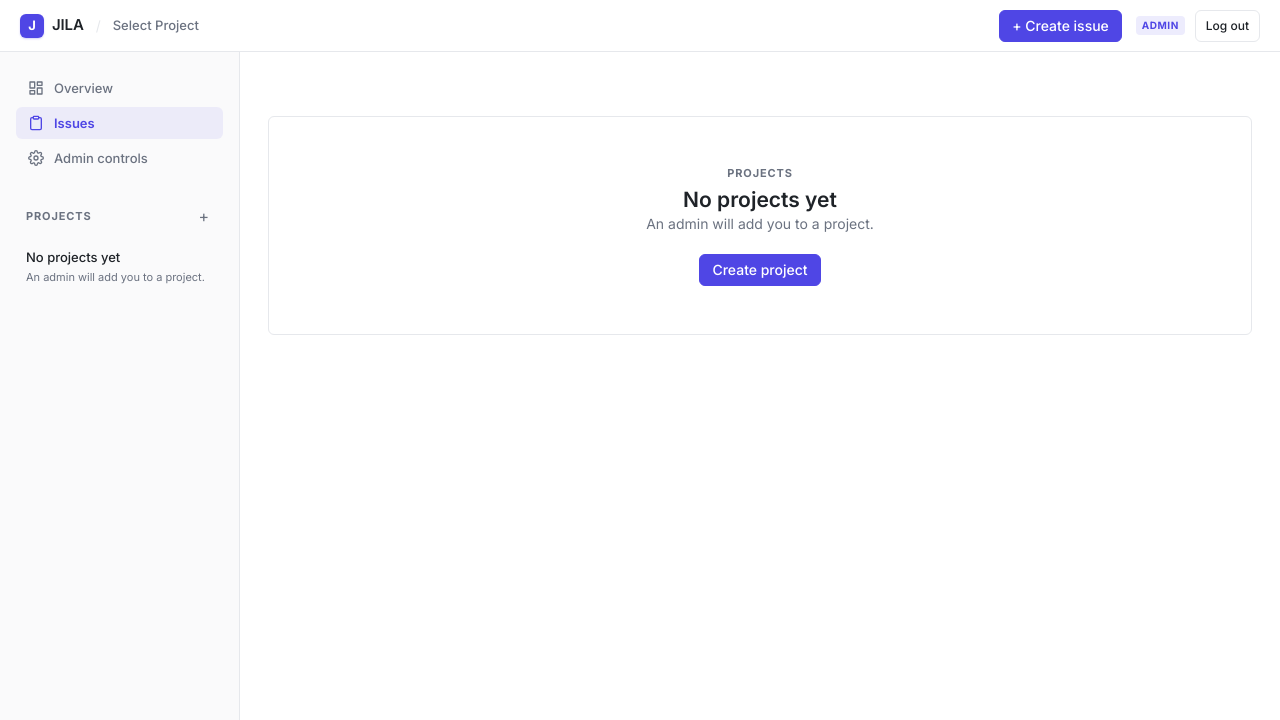
it: WorkspaceComponent › shows an admin project-creation action in the real empty-project state
The image size is (1280, 720).
Click the button with class "create-submit".
click(760, 270)  # box x1=699 y1=254 x2=821 y2=286
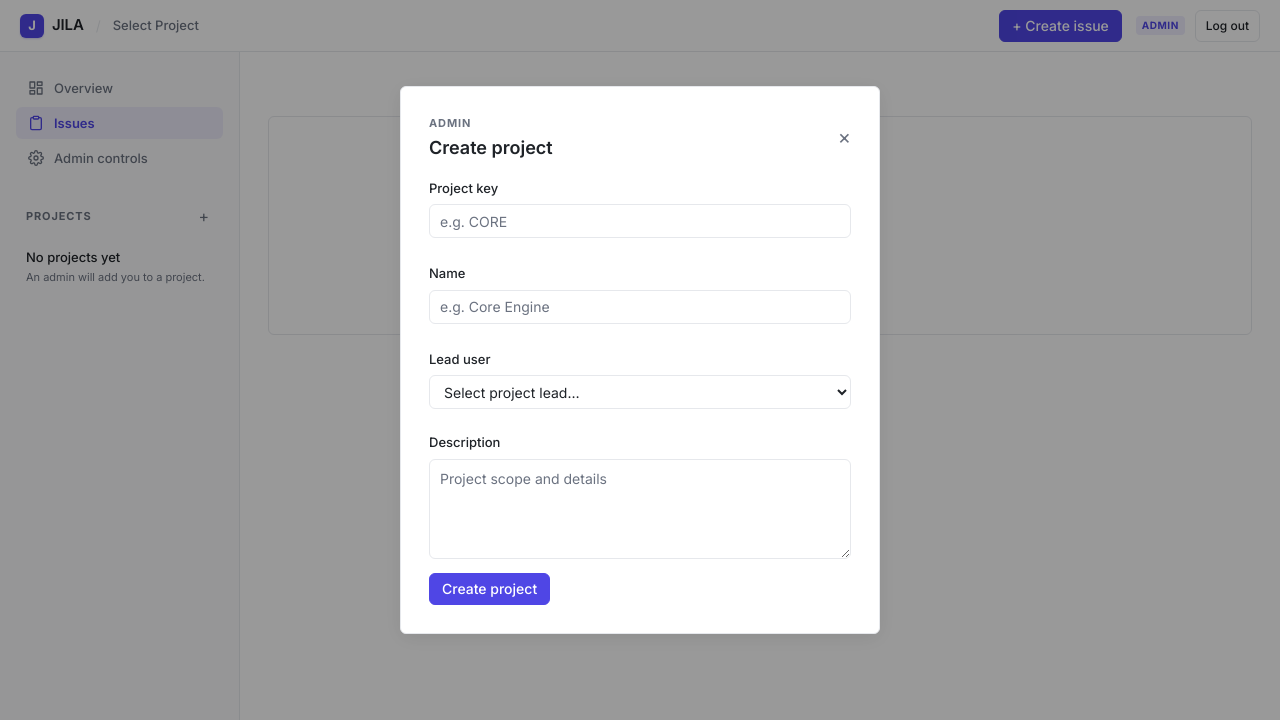
Expected: the form is shown, x1=429 y1=115 x2=851 y2=605
